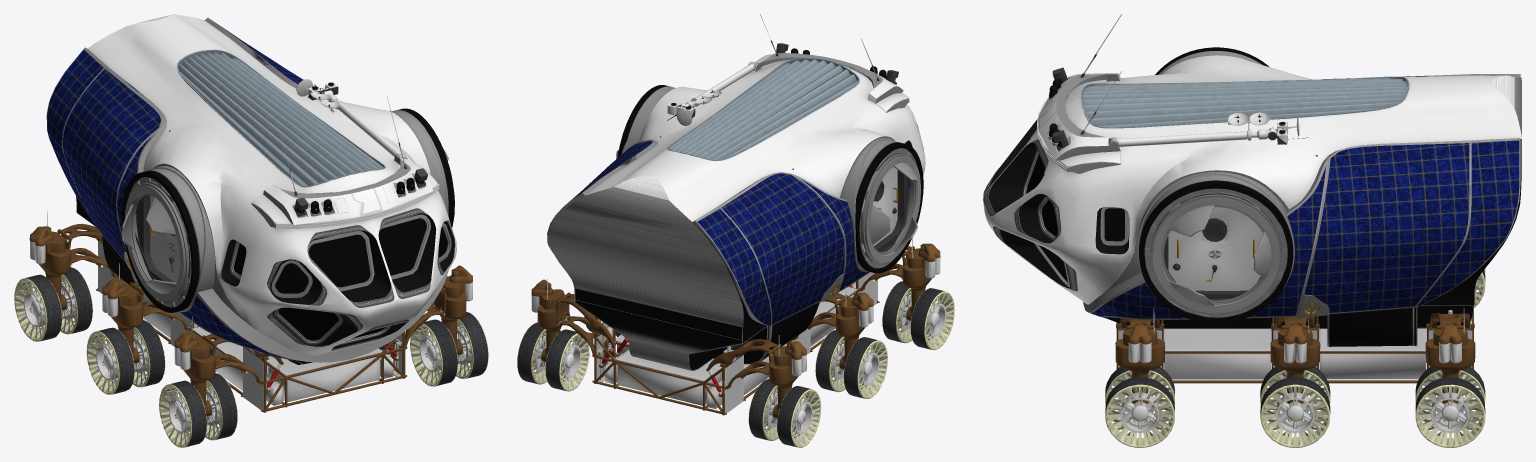
The model's file is nasa_sev.glb.
The picture shows the model from 3 angles, left to right: view 1: azimuth 30°, elevation 25°; view 2: azimuth 150°, elevation 25°; view 3: azimuth 270°, elevation 25°; orthographic projection. The views are drawn at different scales.
Visible parts, largest first — view 1: MMSEV; view 2: MMSEV; view 3: MMSEV.
Part boxes in pixels (box(x1,y1,x2,y2)): MMSEV: box(14, 14, 488, 447); MMSEV: box(517, 14, 954, 447); MMSEV: box(983, 14, 1521, 447).
Size of the model in its own units: 4.04 by 3.97 by 5.91.
Materials: 1 (1 with a texture image).
